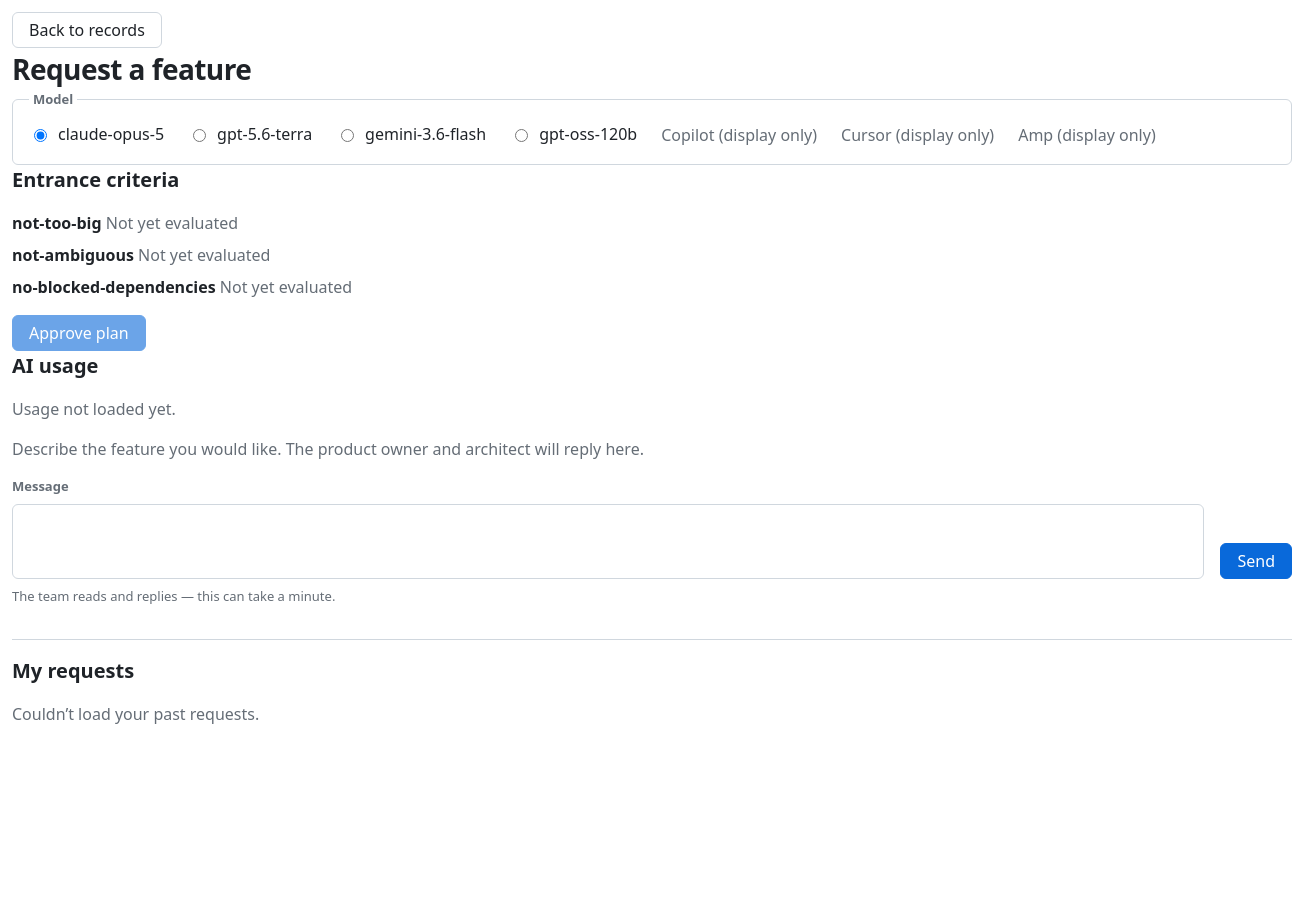
DAN-71 tester · DAN-53/54/66/67 behaviors survive the textarea › mid-flight: textarea and Send are disabled, and a forced Cmd+Enter is a no-op (the guard covers the keyboard path)
Step 1. Type "first message" into the text box labelled "Message" → (608, 542), box [12,504,1204,579]
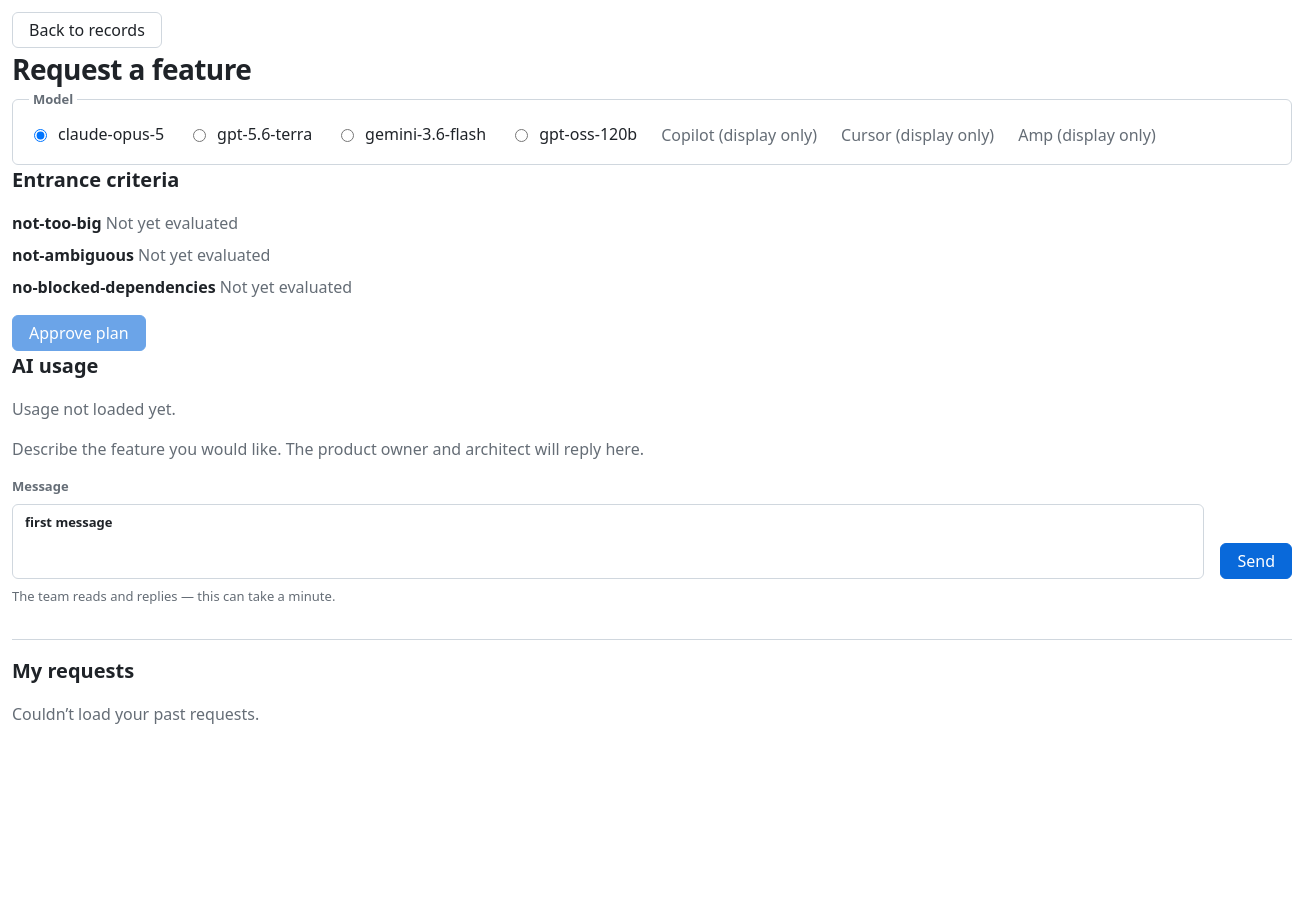
Step 2. Click the button "Send" → (1256, 561), box [1220,543,1292,579]
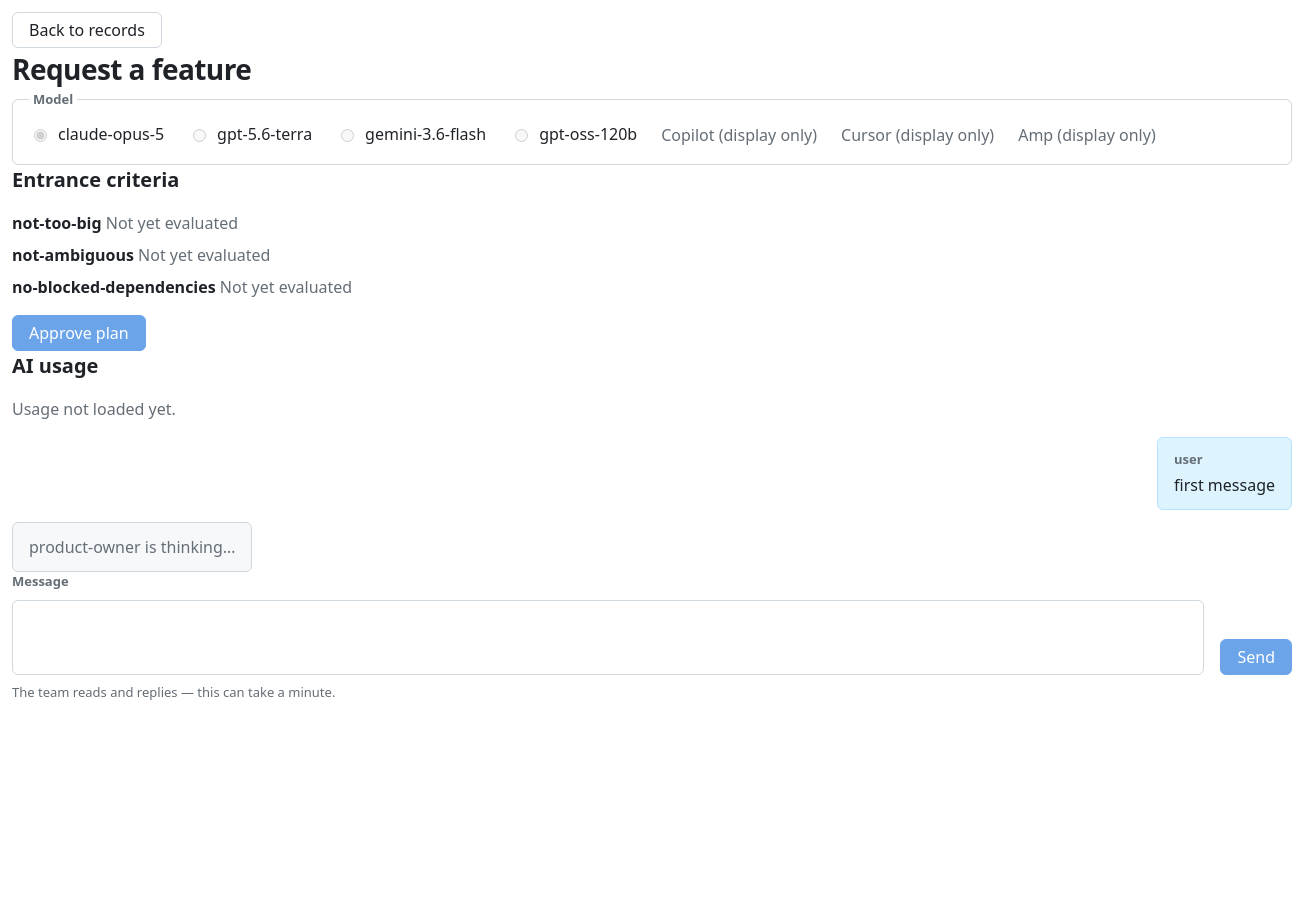
expect the text box labelled "Message" is disabled: met
expect the button "Send" is disabled: met, box [1220,638,1292,674]
Step 3. Type "smuggled second message" into the text box labelled "Message" → (608, 637), box [12,600,1204,674]
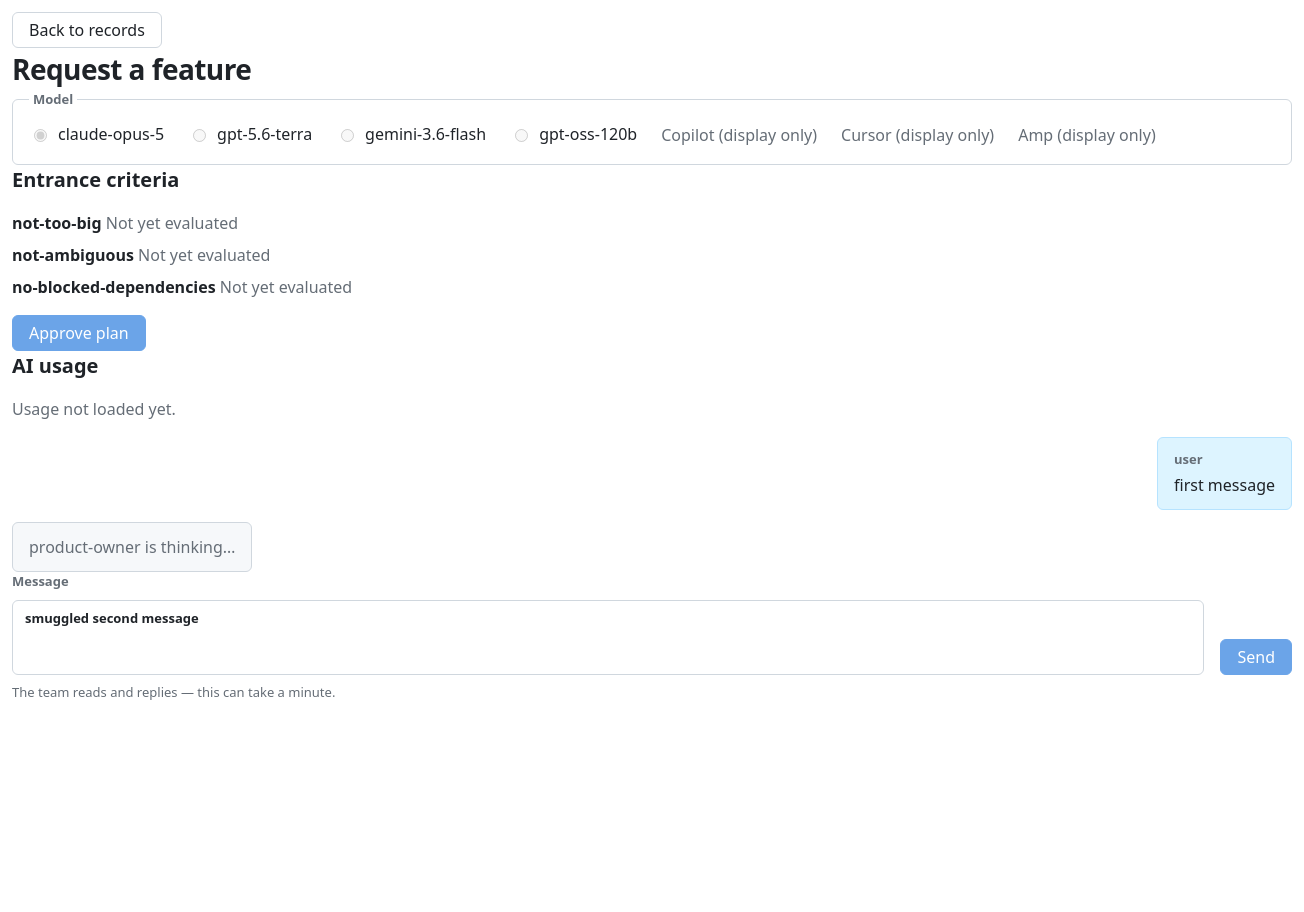
Step 4. Press Enter in the text box labelled "Message", box [12,600,1204,674]
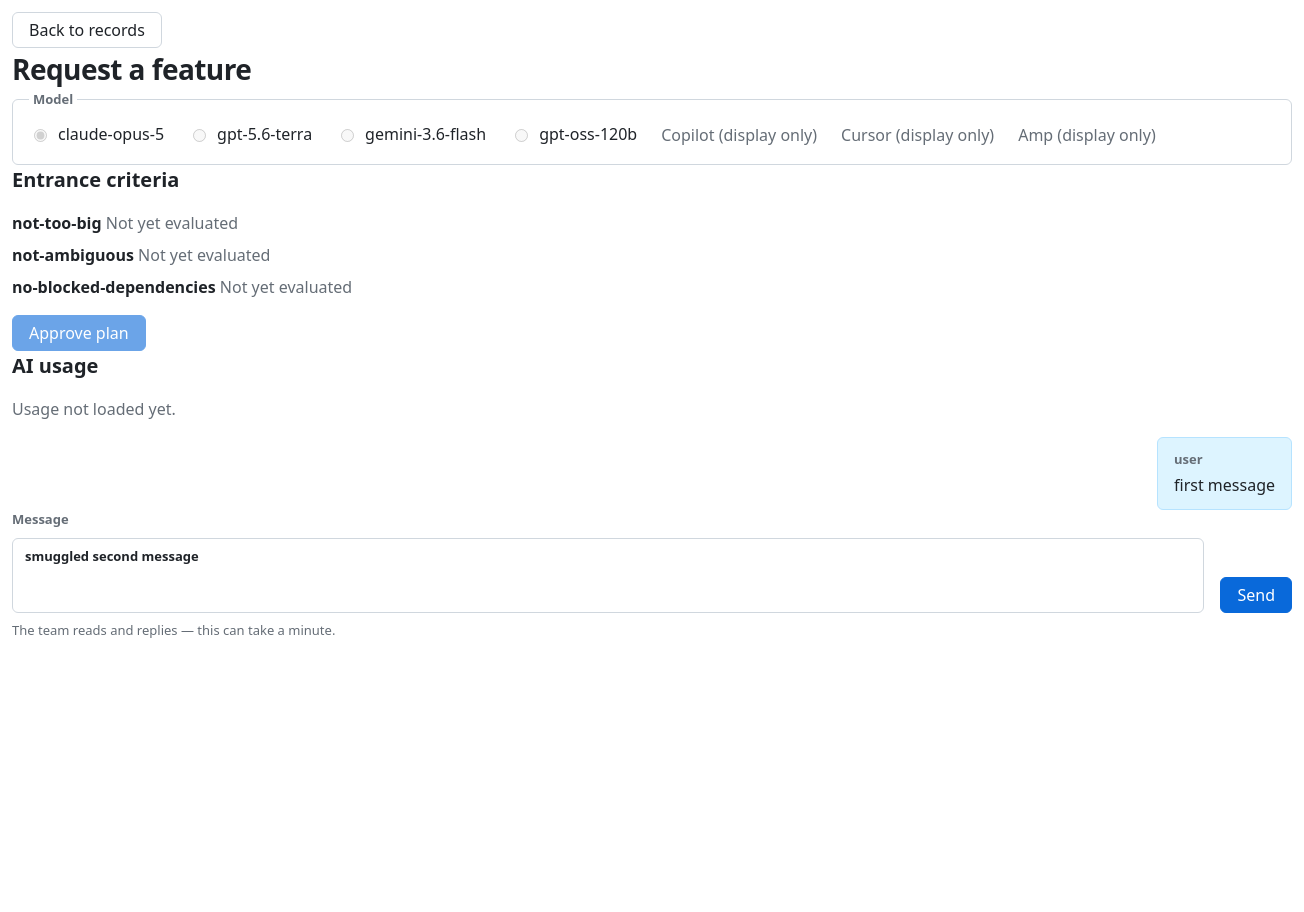
expect the text box labelled "Message" is enabled: met, box [12,538,1204,612]
expect the button "Send" is enabled: met, box [1220,576,1292,612]
